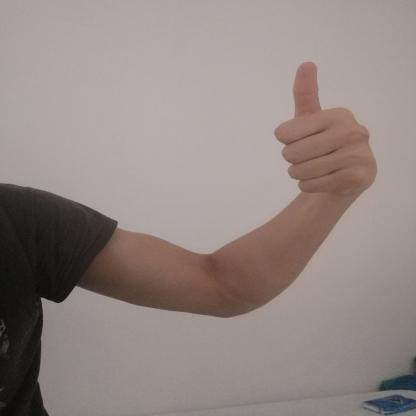ALIF: (260, 51, 397, 209)
